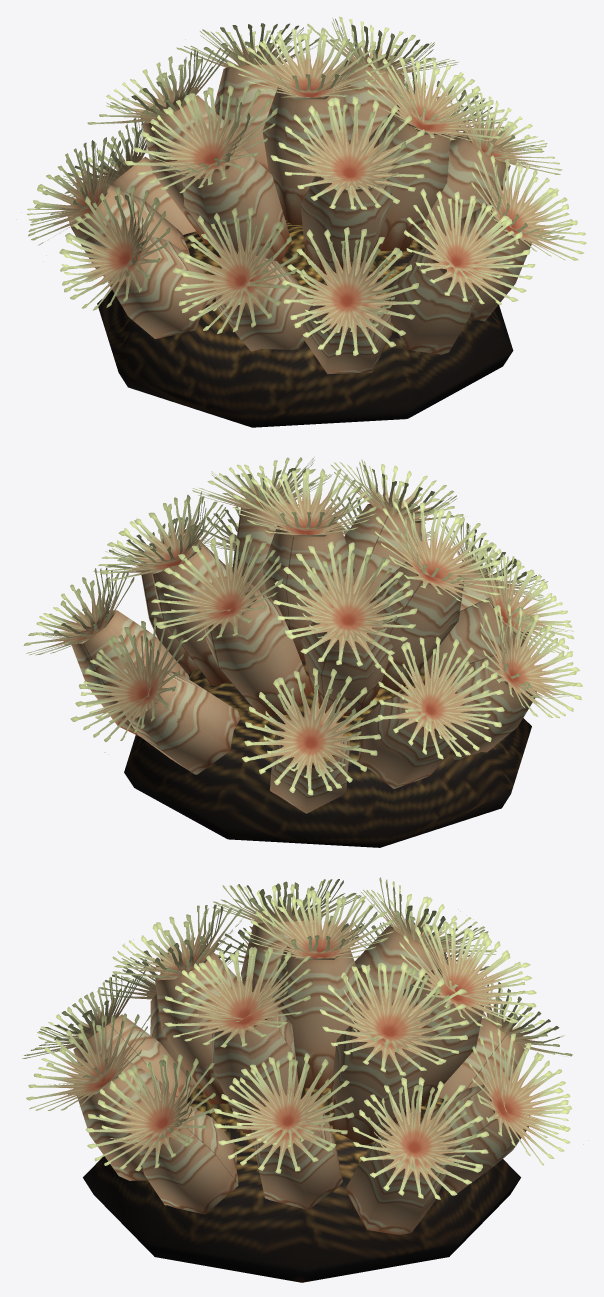
File: Coral_32.FBX
3 renders of one model, top to bottom at view 1: azimuth 30°, elevation 25°; view 2: azimuth 150°, elevation 25°; view 3: azimuth 270°, elevation 25°, orthographic. The views are drawn at different scales.
Visible parts, largest first — view 1: Coral_32, Coral__25; view 2: Coral_32, Coral__25; view 3: Coral_32, Coral__25.
Part boxes in pixels (bbox=[...]): Coral_32: bbox=[27, 16, 586, 374]; Coral__25: bbox=[97, 220, 513, 427]; Coral_32: bbox=[23, 457, 582, 813]; Coral__25: bbox=[124, 660, 531, 847]; Coral_32: bbox=[22, 877, 572, 1235]; Coral__25: bbox=[83, 1085, 520, 1282].
Bounding box in the file's own units: 28.6 × 15.44 × 27.91.
